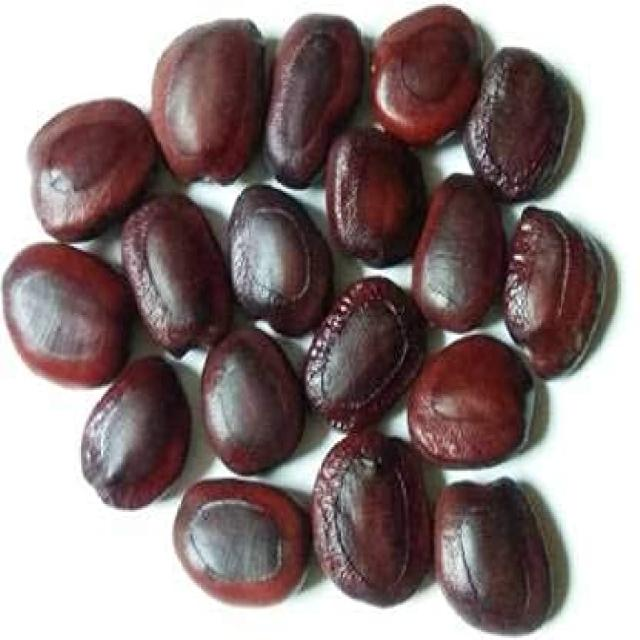Tamarind: (87, 375, 558, 606), (337, 101, 605, 410), (150, 70, 380, 322), (22, 122, 177, 362)
